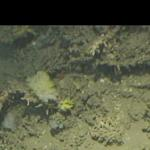dead: (1, 24, 148, 149)
